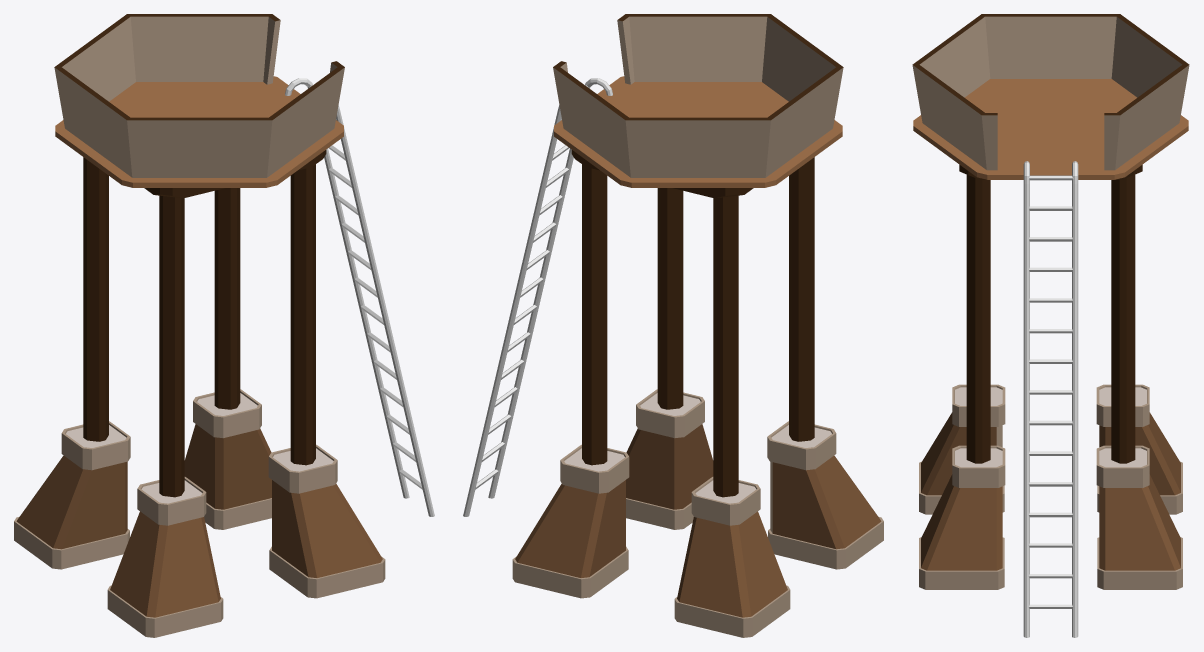
The model's file is watch+tower01.fbx.
3 views of the same model, side by side, from view 1: azimuth 30°, elevation 25°; view 2: azimuth 150°, elevation 25°; view 3: azimuth 270°, elevation 25° (orthographic). The views are drawn at different scales.
Parts seen in each view (by area): view 1: 01; view 2: 01; view 3: 01.
Boxes of the visible parts, x1,y1,x2,y2 form: 01: (14,14,434,637); 01: (463,14,883,637); 01: (912,14,1189,637).
Bounding box in the file's own units: 968 × 1332 × 712.
